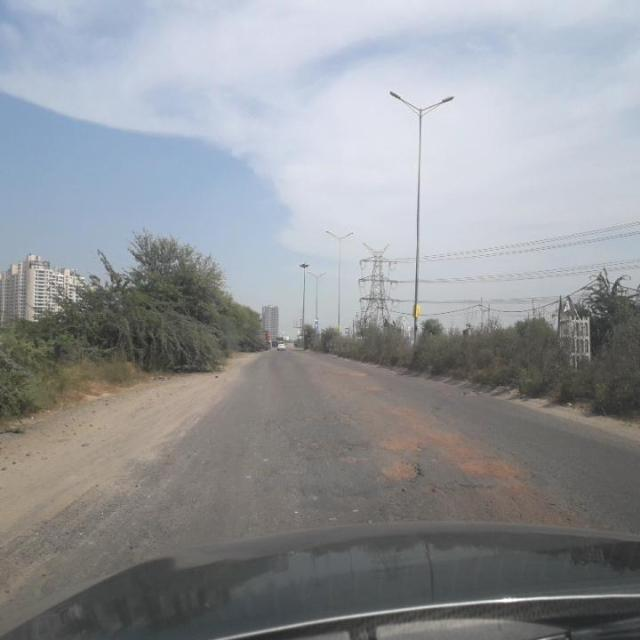Pothole: (368, 444, 434, 485)
Surface Erosion: (269, 302, 601, 594)
